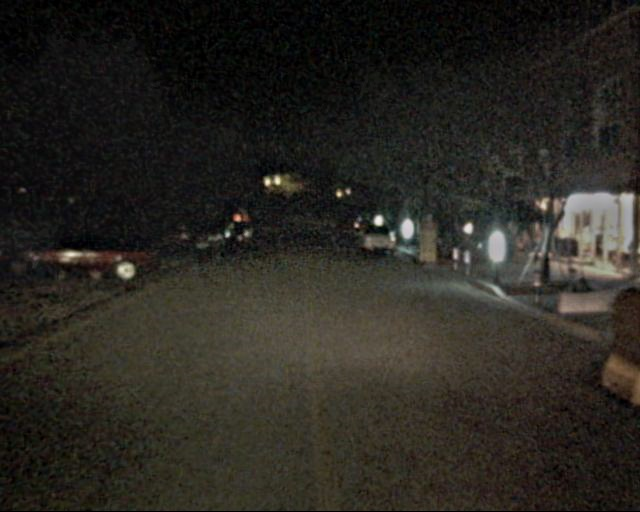person: (500, 221, 521, 273), (526, 220, 545, 267)
